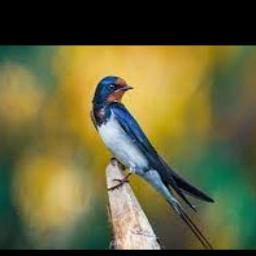Swallow: (92, 76, 214, 250)
